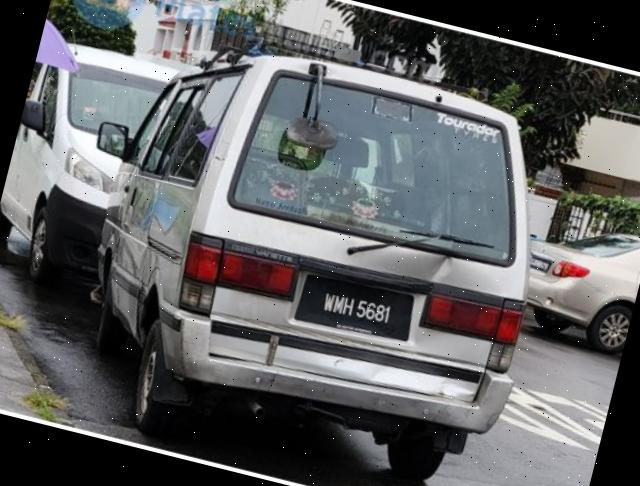License_Plate: (281, 262, 433, 360)
van: (47, 11, 575, 486)
